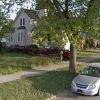Car: (63, 58, 100, 100)
